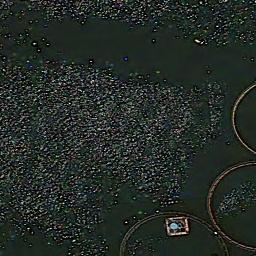circle: (113, 205, 235, 256), (203, 157, 256, 256), (229, 78, 256, 157)
